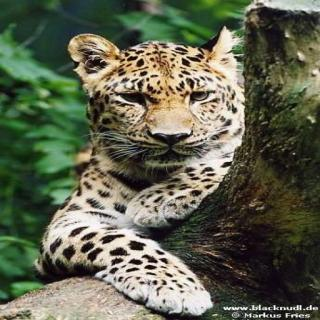Leopard: (36, 13, 268, 318)
